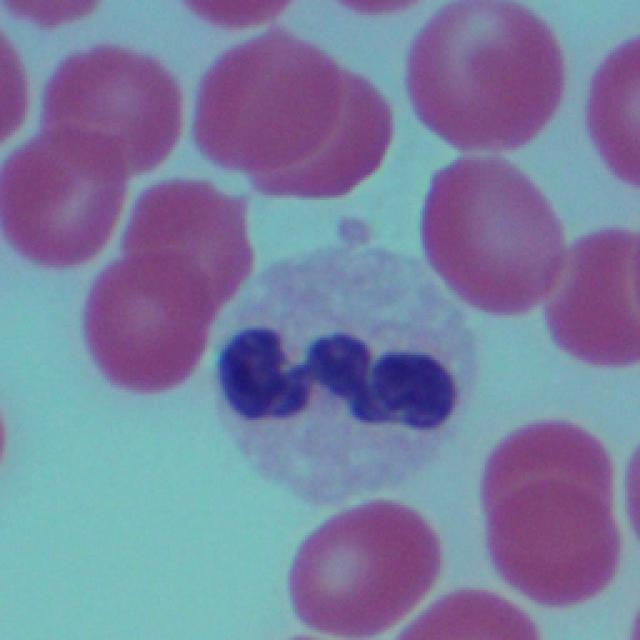RBC: (471, 418, 640, 614), (267, 486, 449, 638), (416, 148, 562, 322), (400, 0, 555, 152), (199, 30, 340, 174), (49, 30, 170, 186), (94, 249, 209, 404), (0, 125, 128, 260), (123, 175, 254, 288), (557, 222, 640, 376), (364, 589, 576, 640), (582, 13, 640, 191), (0, 18, 35, 158)
WBC: (222, 236, 480, 491)
